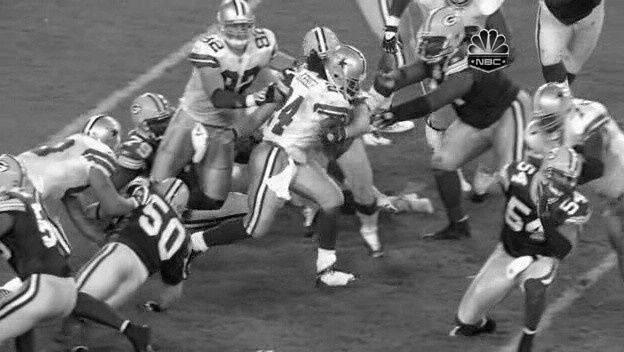person: (331, 49, 369, 94), (330, 49, 368, 94), (332, 49, 370, 94), (331, 48, 369, 93), (331, 50, 369, 95)
target_negative: (524, 20, 613, 218), (504, 78, 596, 206), (349, 14, 373, 337), (468, 125, 550, 166), (251, 53, 288, 132), (319, 320, 473, 327)
